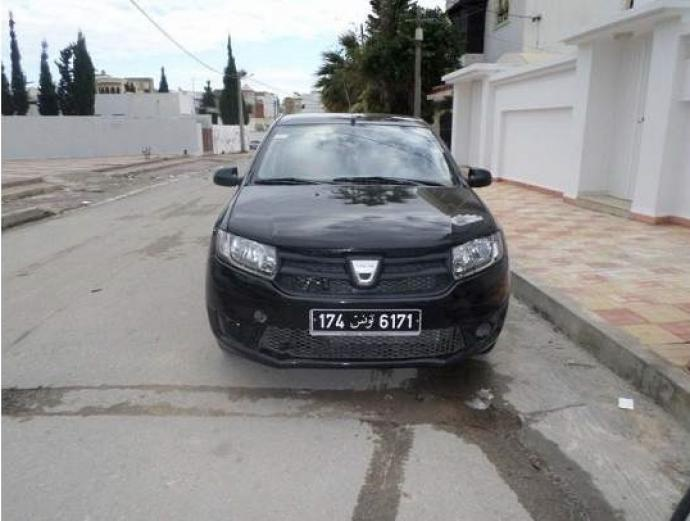LP: (307, 305, 427, 341)
